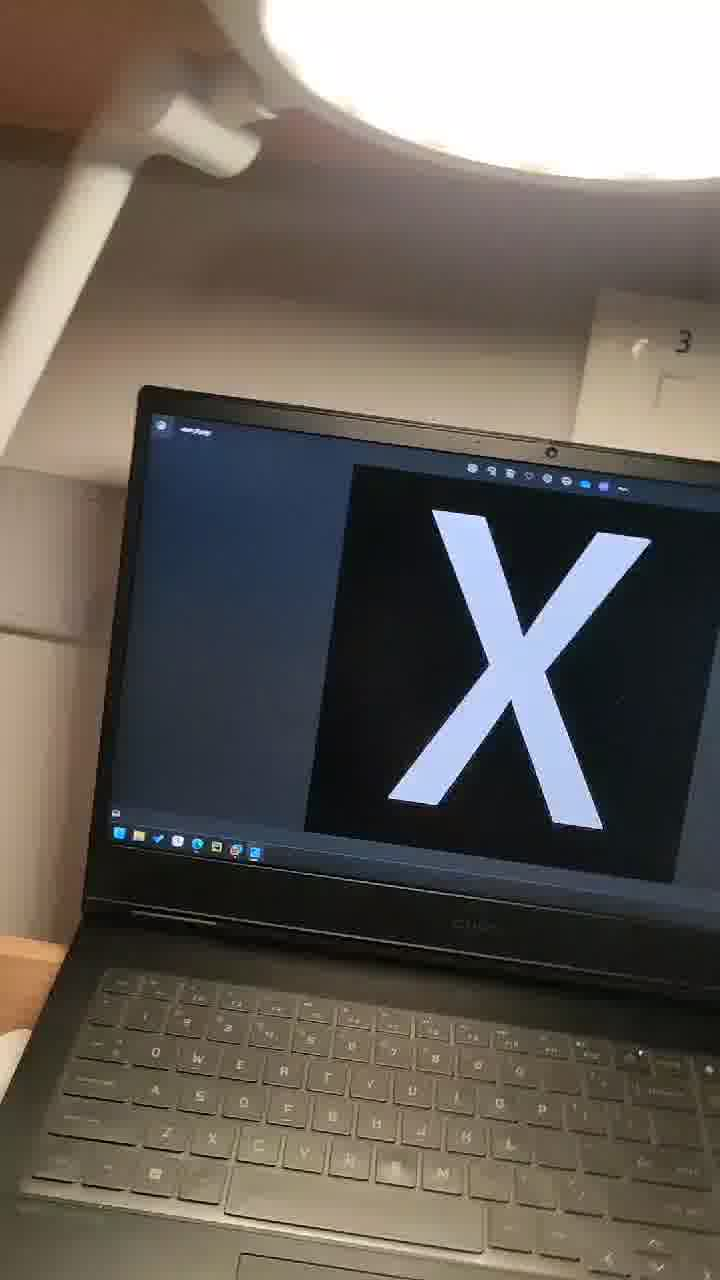X: (326, 478, 720, 931)
